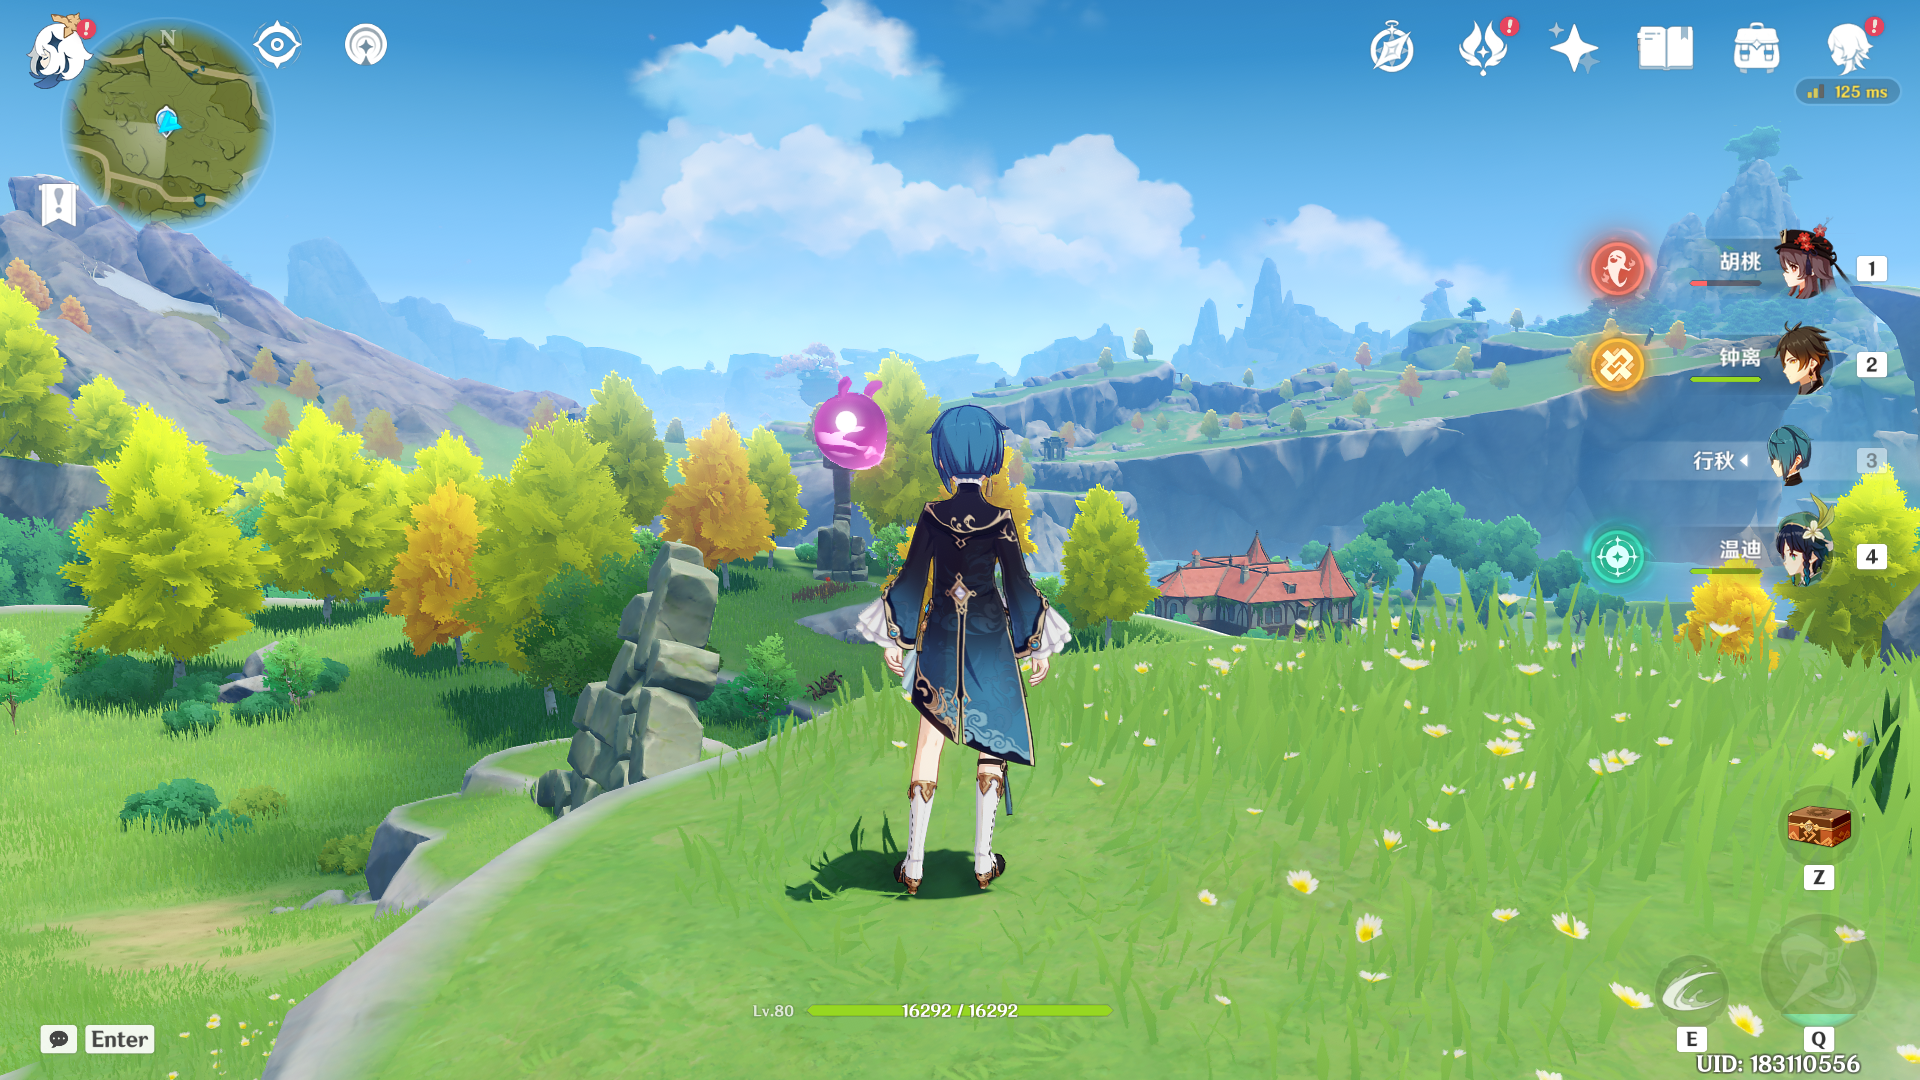character: (808, 359, 1108, 891)
